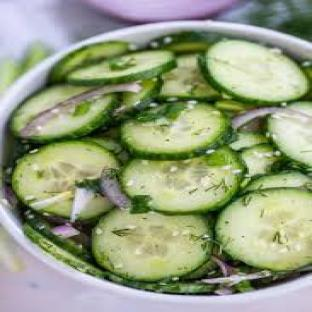Cucumber: (93, 210, 213, 281), (122, 147, 243, 214), (12, 141, 117, 217), (217, 189, 311, 271), (200, 40, 310, 105), (122, 103, 231, 159), (24, 223, 105, 277), (26, 95, 117, 142), (67, 50, 175, 85), (50, 41, 129, 82), (26, 212, 92, 260), (268, 101, 311, 166), (159, 55, 219, 99), (108, 274, 214, 294), (113, 79, 161, 120), (151, 31, 211, 53), (241, 143, 279, 175), (84, 136, 129, 163), (244, 172, 311, 190), (23, 42, 51, 72), (0, 58, 22, 95), (183, 259, 218, 280), (231, 131, 267, 150), (215, 99, 250, 114), (302, 63, 311, 99)
